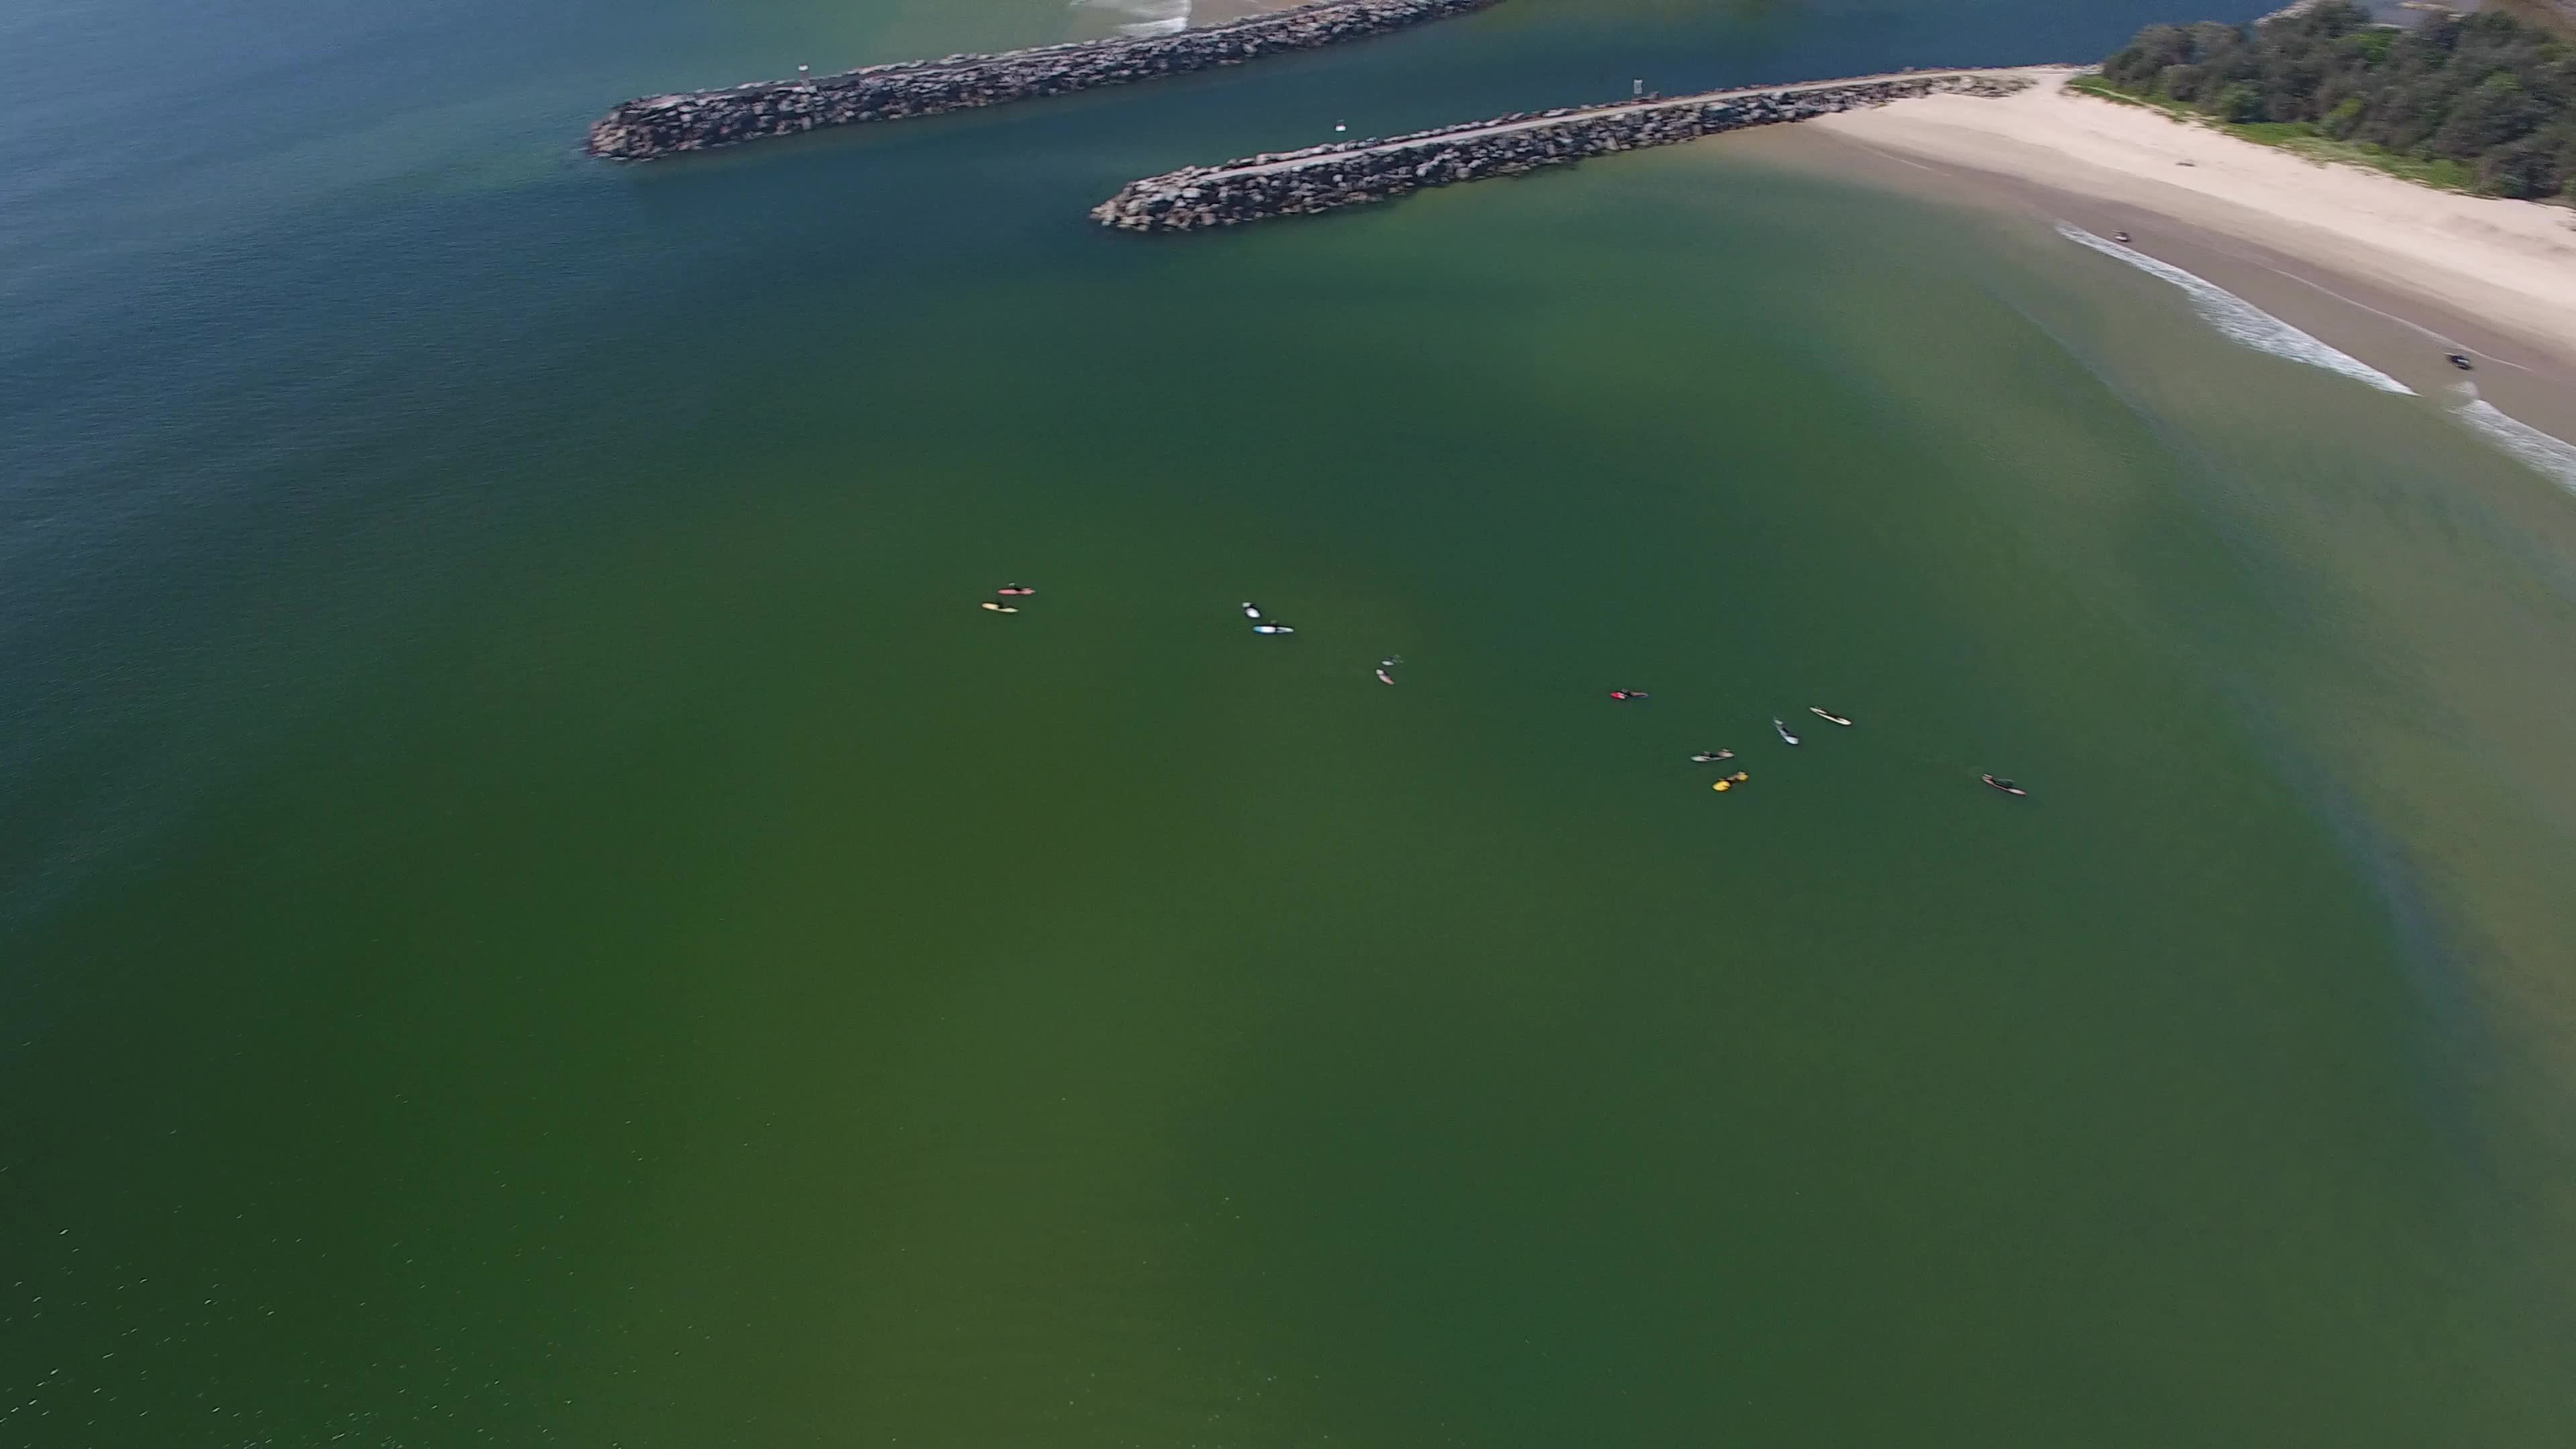surfer: (1982, 766, 2031, 810), (1608, 678, 1654, 706), (1246, 619, 1300, 642), (1771, 713, 1801, 752), (1815, 704, 1854, 731), (1714, 771, 1753, 796), (1693, 743, 1732, 768), (1233, 600, 1272, 625), (1000, 582, 1040, 602), (1371, 669, 1405, 692), (982, 600, 1021, 617), (1376, 655, 1410, 672)
